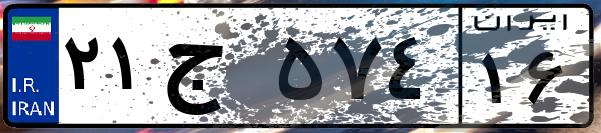1: (475, 38, 525, 113), (110, 28, 158, 98)
2: (57, 26, 110, 100)
4: (385, 28, 445, 110)
5: (270, 28, 330, 110)
6: (525, 38, 570, 115)
7: (330, 28, 385, 110)
ج: (158, 20, 270, 120)
